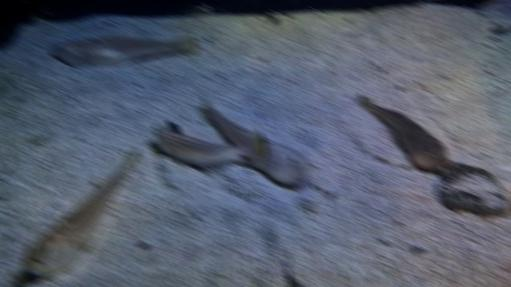Fish: (23, 149, 140, 277), (153, 99, 312, 185), (361, 95, 452, 172), (52, 36, 199, 67)
